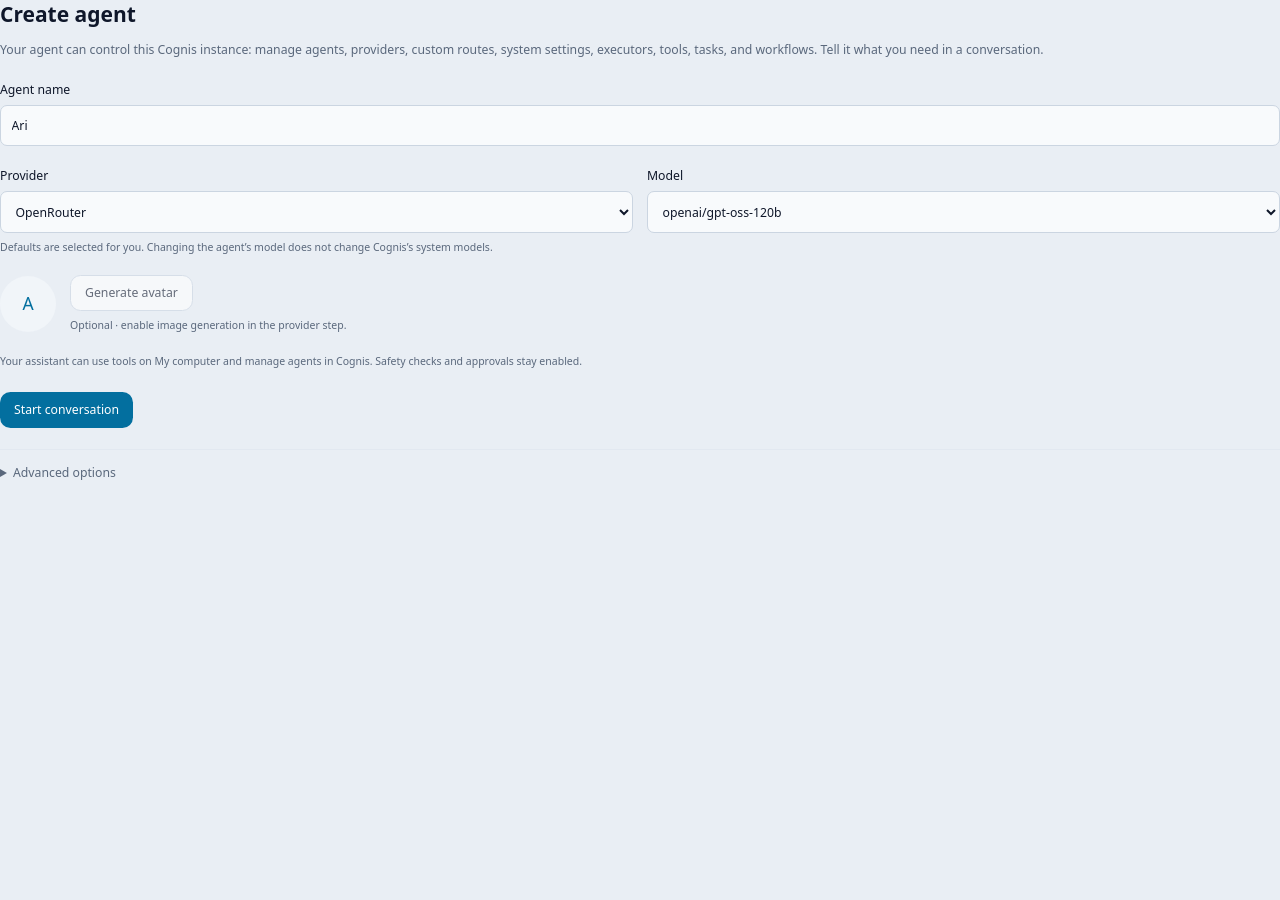
three-step setup boundaries › rechecks the executor before creating an agent
Expected: the field labelled "Agent name" is shown, [0, 105, 1279, 146]
What coordinates should you click on to do the following:
click the button "Start conversation"
I would click on:
 (66, 410)
Its box is [0, 392, 133, 428].
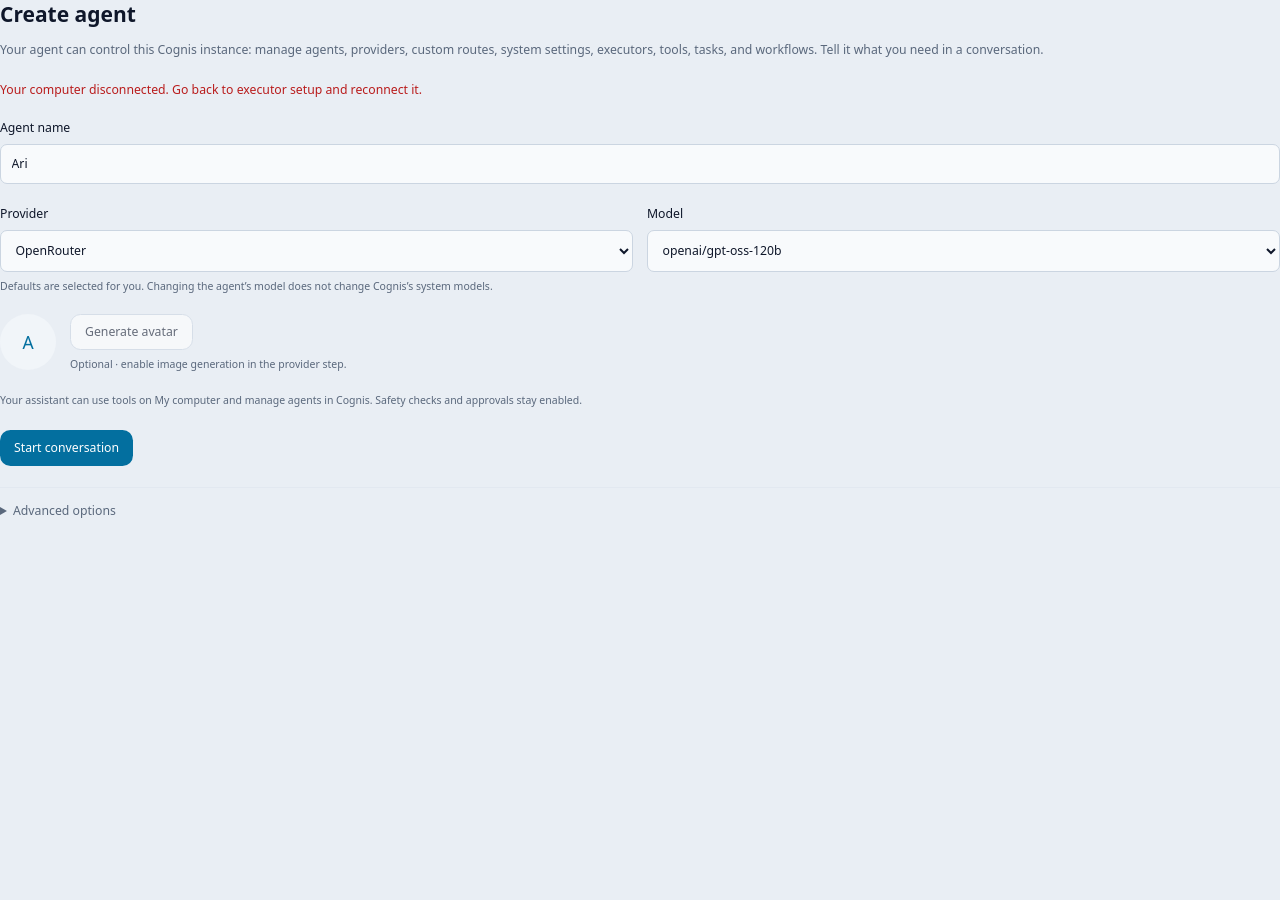
Now the text "Your computer disconnected. Go back to executor setup and reconnect it." is shown, box [0, 80, 422, 98]
